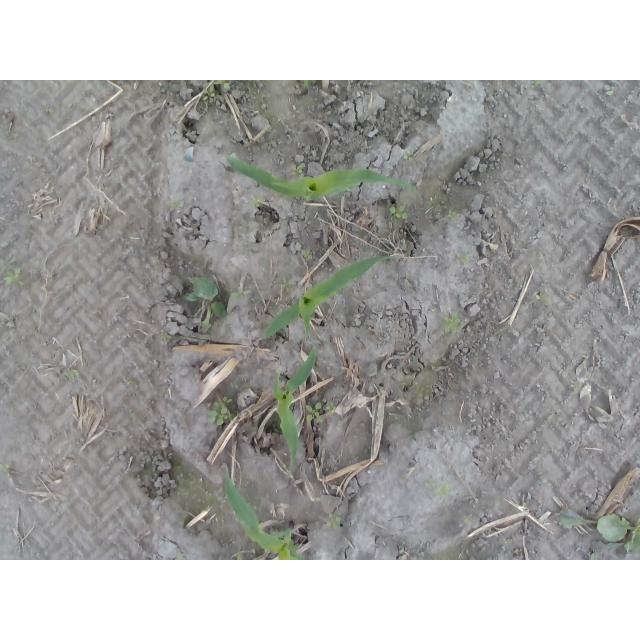Maize: (262, 254, 399, 338), (225, 154, 424, 201), (224, 471, 308, 557), (275, 347, 317, 470)
Weeds: (558, 514, 640, 559), (185, 275, 227, 333), (207, 397, 233, 427), (424, 477, 454, 497), (0, 257, 22, 283), (305, 401, 324, 427), (442, 312, 462, 334), (325, 513, 343, 530), (229, 287, 251, 300), (389, 205, 408, 219), (60, 369, 80, 381), (280, 279, 296, 293), (534, 292, 552, 304), (203, 89, 217, 103), (166, 195, 182, 207), (214, 80, 231, 88), (325, 403, 337, 414), (290, 163, 303, 173), (300, 250, 313, 260), (251, 196, 265, 205), (301, 80, 315, 89), (457, 253, 467, 264), (447, 209, 457, 219), (161, 332, 172, 341), (1, 464, 12, 473), (402, 152, 412, 161), (463, 514, 472, 523), (45, 107, 56, 114)
